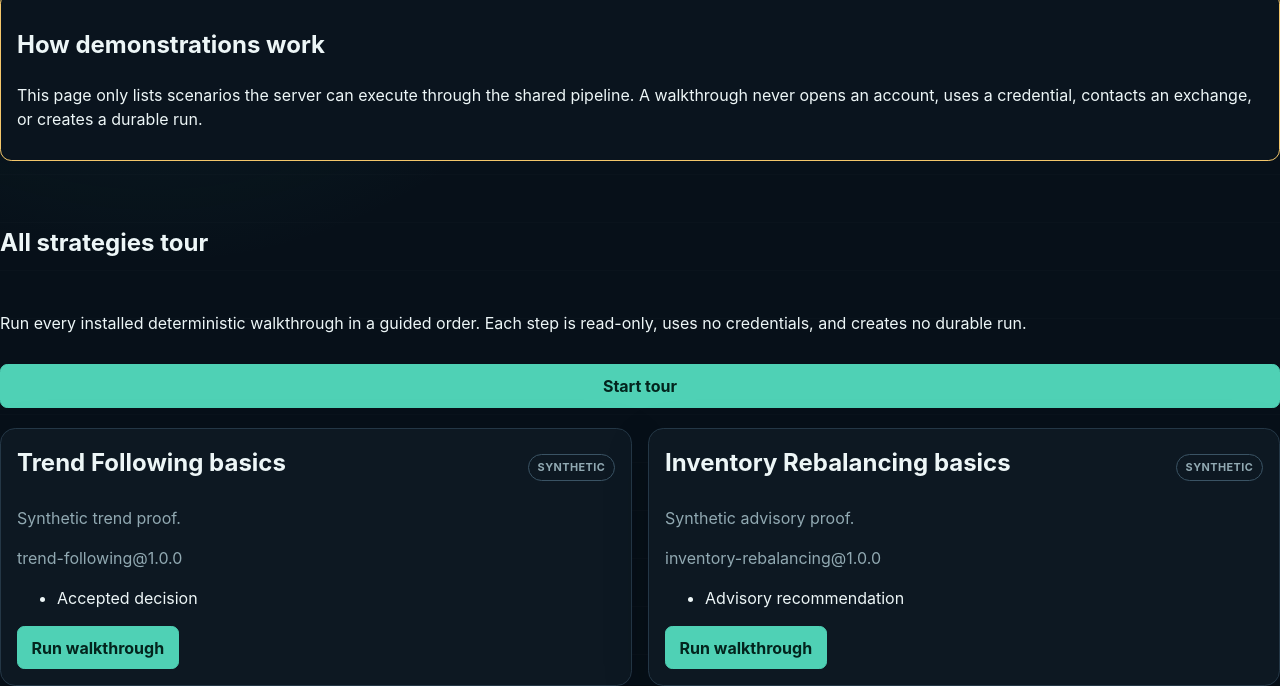
Test: GuidedDemonstrationsPage › shows virtual fills and accounting evidence for a multi-leg walkthrough
(page scrolled)
Expected: the heading "Trend Following basics" is shown, [17,445,286,481]
Click the button "Run walkthrough" below "Accepted decision": (98, 648) [17,626,179,669]
(page scrolled)
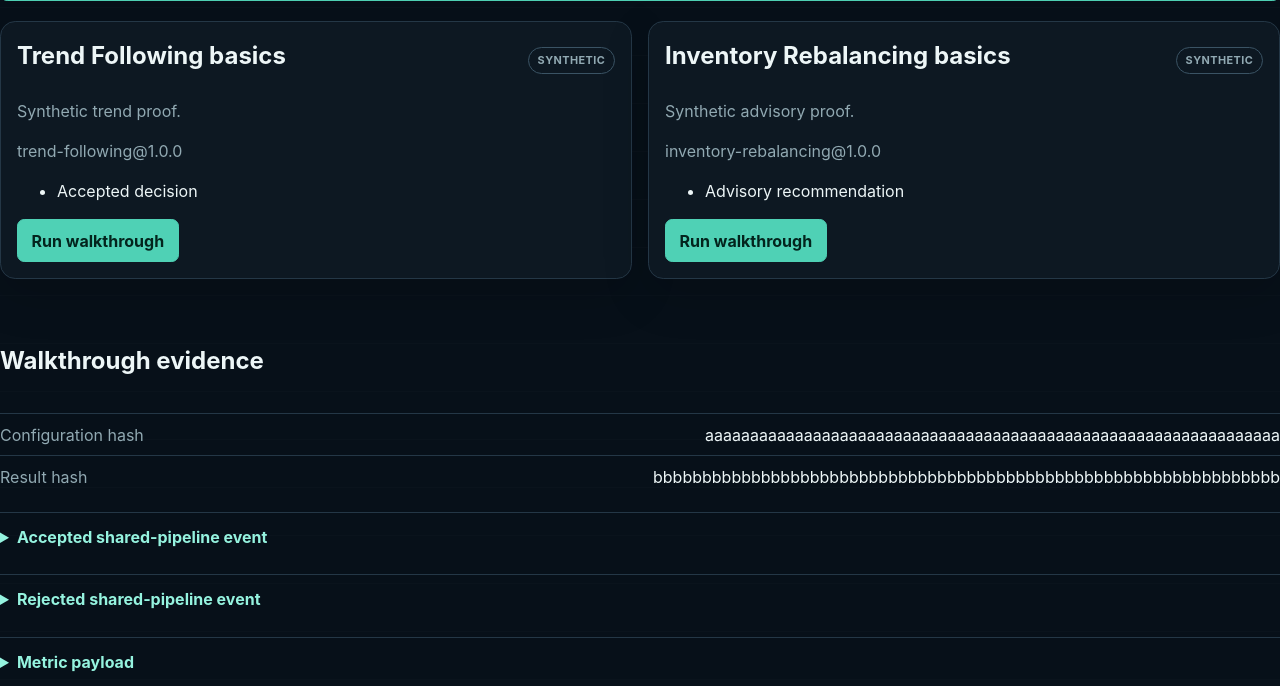
Expected: the heading "Accepted shared-pipeline event" is shown, [17,527,267,547]
Expected: the heading "Rejected shared-pipeline event" is shown, [17,589,260,609]
